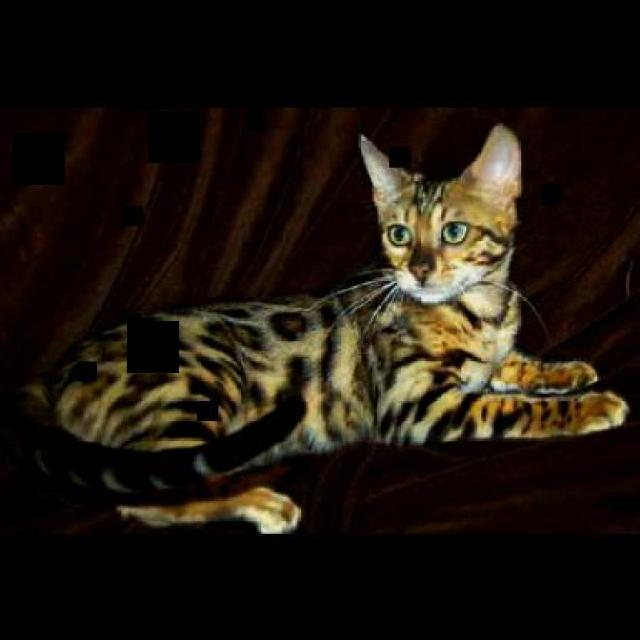unauthorized: (12, 122, 630, 536)
